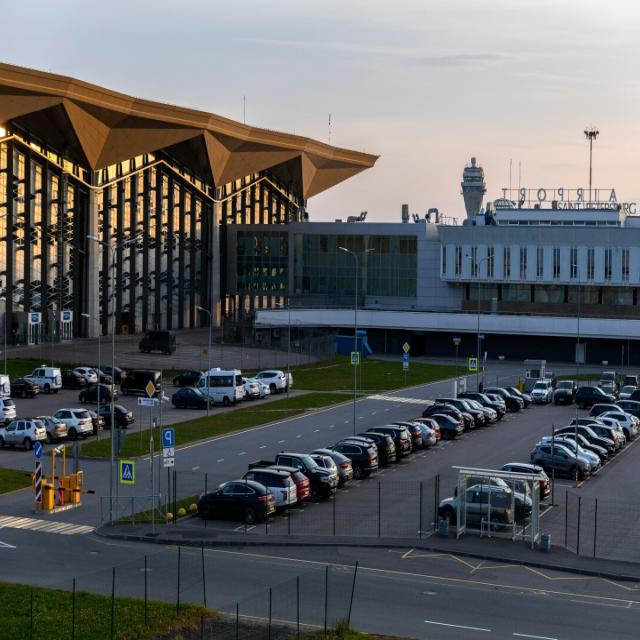car: (248, 452, 336, 503), (437, 488, 514, 526), (463, 490, 532, 528), (242, 470, 298, 512), (197, 490, 275, 520), (530, 442, 587, 483), (197, 369, 243, 404), (459, 387, 506, 420), (0, 417, 46, 448), (334, 446, 376, 478), (452, 396, 499, 424), (482, 386, 524, 416), (120, 369, 164, 397), (52, 408, 93, 438), (510, 465, 550, 495), (25, 367, 60, 395), (171, 387, 213, 410), (136, 329, 176, 353), (576, 386, 615, 410), (256, 366, 286, 397), (40, 412, 67, 446), (604, 414, 635, 441), (79, 384, 118, 402), (531, 377, 553, 406), (553, 380, 577, 406), (172, 369, 202, 387), (436, 418, 461, 438), (61, 368, 85, 386), (102, 367, 126, 384), (598, 370, 618, 390), (239, 378, 258, 399), (84, 408, 101, 430), (75, 366, 97, 383), (0, 396, 14, 422), (93, 365, 112, 384), (618, 384, 638, 402), (410, 421, 419, 453), (256, 381, 270, 398)
